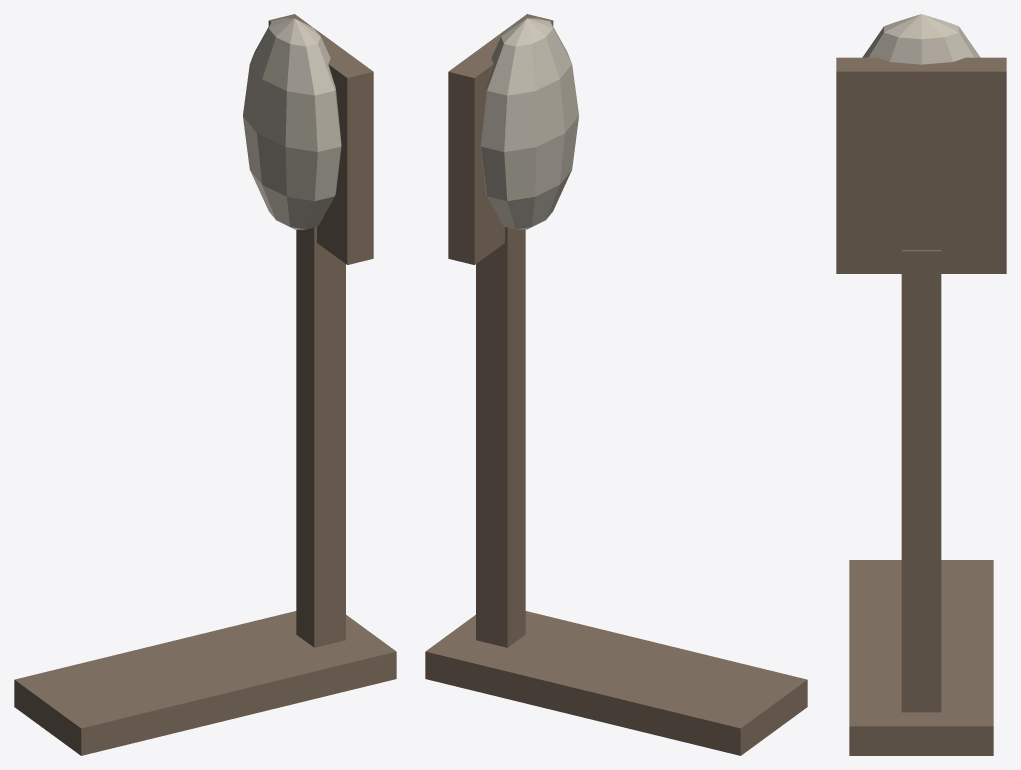
File: Spinner.fbx
The picture shows the model from 3 angles, left to right: view 1: azimuth 30°, elevation 25°; view 2: azimuth 150°, elevation 25°; view 3: azimuth 270°, elevation 25°; orthographic projection. The views are drawn at different scales.
Visible parts, largest first — view 1: Spinner; view 2: Spinner; view 3: Spinner.
Boxes of the visible parts, x1=… form: Spinner: x1=14, y1=14, x2=396, y2=755; Spinner: x1=425, y1=14, x2=807, y2=755; Spinner: x1=836, y1=14, x2=1006, y2=755.
Size of the model in its own units: 60 by 119 by 26.
